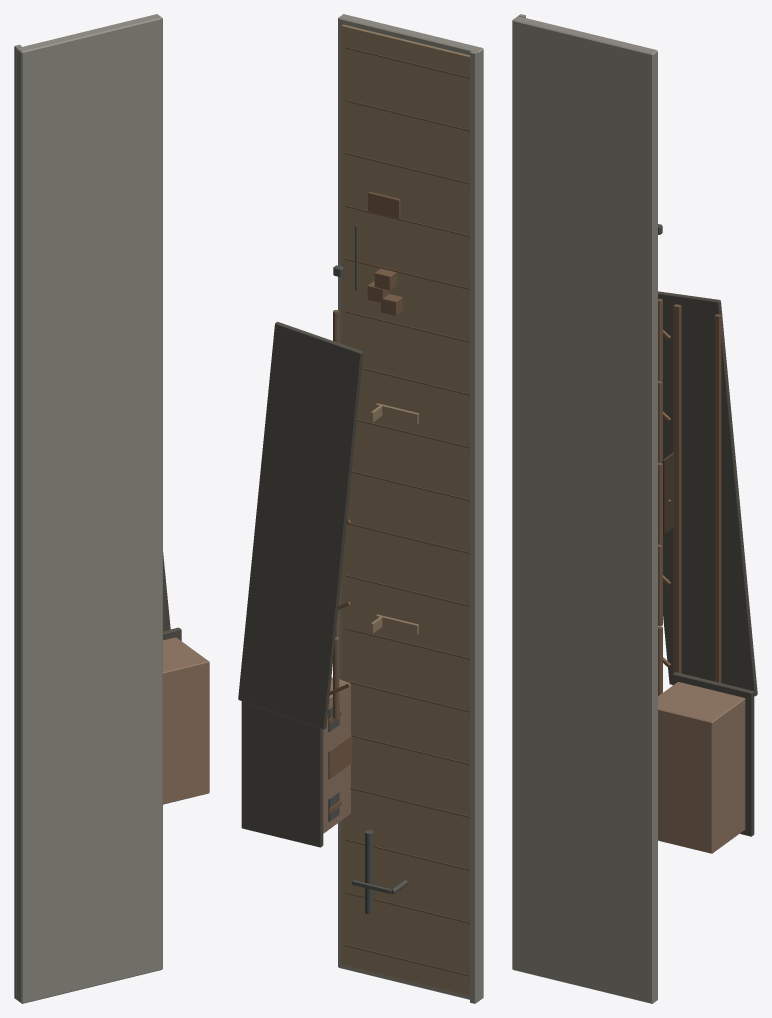
File: Model_ChuchuanStationPlatform.glb
3 views of the same model, side by side, from view 1: azimuth 30°, elevation 25°; view 2: azimuth 150°, elevation 25°; view 3: azimuth 330°, elevation 25° (orthographic).
Visible parts, largest first — view 1: StationPlatformStoneBase, StationOffice, StationPlatformEdge; view 2: StationPlatformTimberDeck, CanopyRoof, StationPlatformStoneBase, StationOfficeRoof, StationPlatformEdge, StationOffice, StationOfficeDoor, LuggageTrolley; view 3: StationPlatformStoneBase, CanopyRoof, StationOffice, CanopyBeam, CanopyRearBeam, StationOfficeRoof, StationNameBoard.
Boxes of the visible parts, x1,y1,x2,y2 form: StationPlatformStoneBase: (16,14,162,1003); StationOffice: (163,637,209,804); StationPlatformEdge: (14,44,21,999); StationPlatformTimberDeck: (341,24,469,996); CanopyRoof: (238,321,363,729); StationPlatformStoneBase: (338,14,483,1001); StationOfficeRoof: (241,701,323,847); StationPlatformEdge: (470,51,477,1003); StationOffice: (323,677,350,833); StationOfficeDoor: (328,735,352,779); LuggageTrolley: (368,191,400,218); StationPlatformStoneBase: (512,16,657,1003); CanopyRoof: (658,291,757,696); StationOffice: (658,682,745,853); CanopyBeam: (673,304,681,673); CanopyRearBeam: (714,314,721,682); StationOfficeRoof: (672,672,754,836); StationNameBoard: (662,452,673,533).
Size of the model in its own units: 7.92 by 36 by 3.43.
